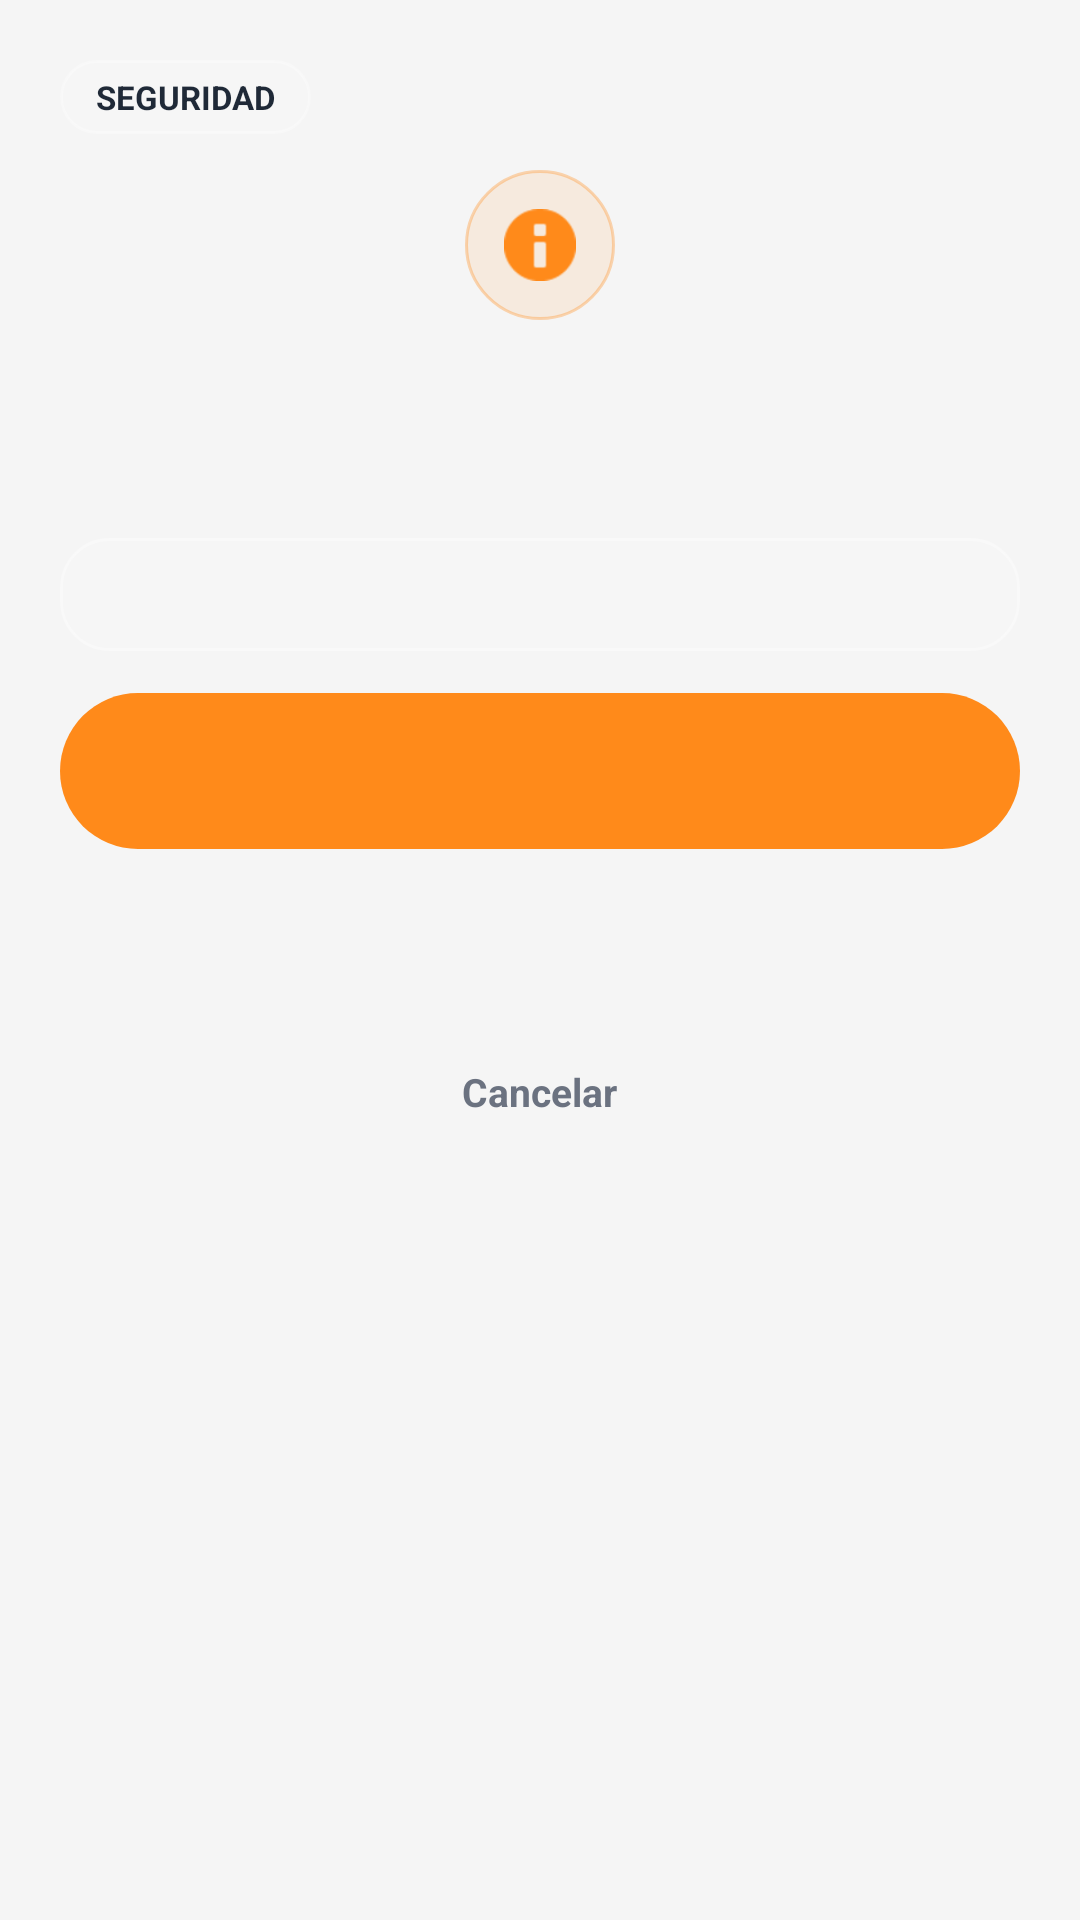

Where icons sit on this 1080 × 1920 app screen, as (x1,y1,x2,y2):
info: (504,209,576,281)
